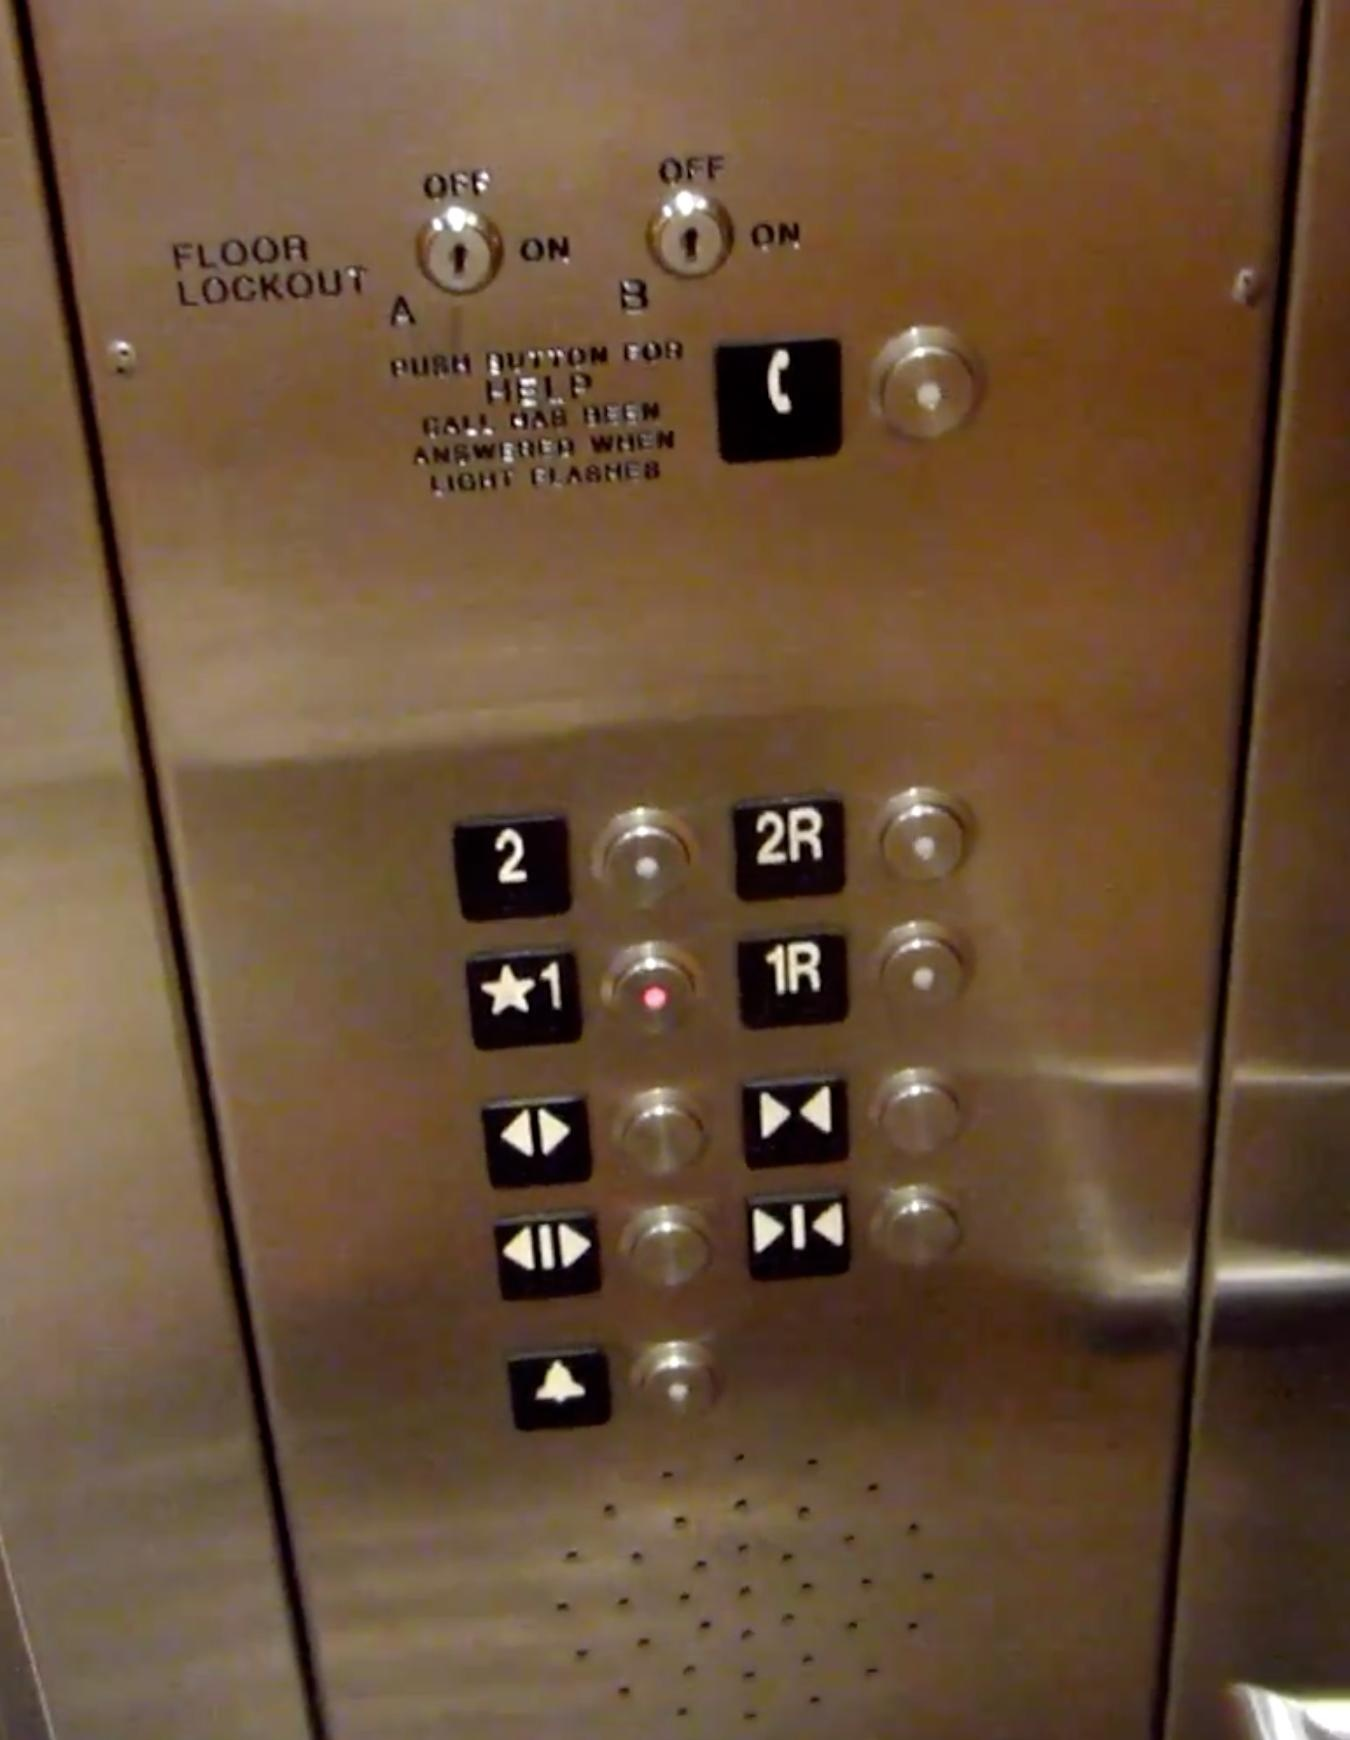1R: (730, 924, 854, 1032)
2: (446, 809, 578, 928)
2R: (724, 788, 853, 905)
alarm: (500, 1340, 619, 1435)
call: (706, 329, 850, 470)
close: (731, 1066, 854, 1175), (739, 1188, 860, 1287)
empty: (861, 318, 991, 451), (587, 799, 705, 911), (596, 936, 713, 1048), (604, 1079, 722, 1191), (859, 1171, 976, 1282), (604, 1198, 722, 1308), (621, 1330, 739, 1441), (863, 782, 980, 893), (864, 915, 981, 1025), (861, 1059, 979, 1169)
keyhole: (412, 205, 508, 301), (643, 191, 739, 282)
open: (474, 1086, 597, 1193), (484, 1208, 604, 1309)
s1: (459, 942, 590, 1058)
